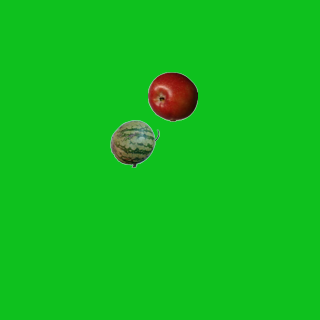Apple Braeburn: (147, 71, 197, 121)
Watermelon: (109, 118, 159, 168)
